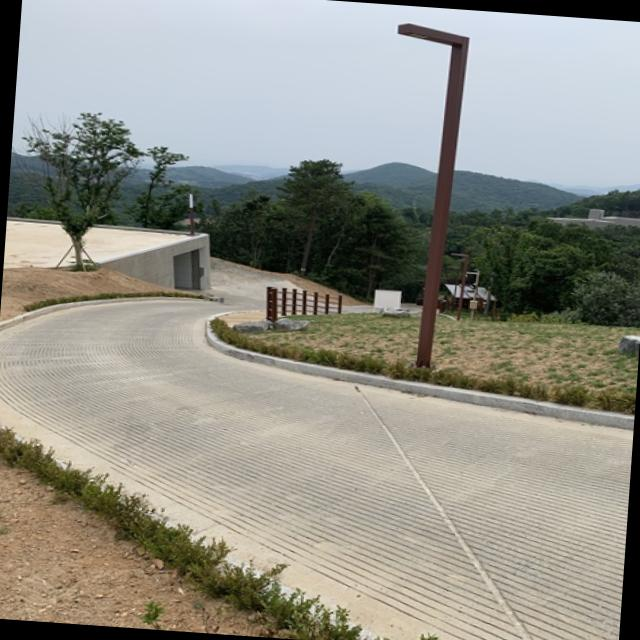cement: (0, 225, 634, 640), (3, 217, 66, 264)
grass: (0, 425, 391, 640), (214, 313, 638, 413)
red-sand: (0, 460, 261, 637), (0, 268, 172, 319)
rocks: (232, 316, 308, 332), (617, 335, 640, 354), (374, 307, 408, 316)
